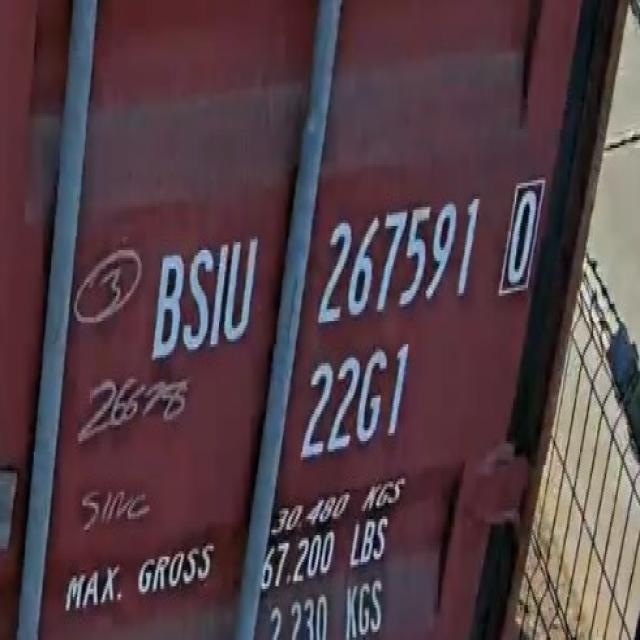dv: (498, 170, 547, 312)
owner: (144, 219, 262, 364)
serial: (318, 185, 482, 331)
size: (300, 335, 413, 471)
